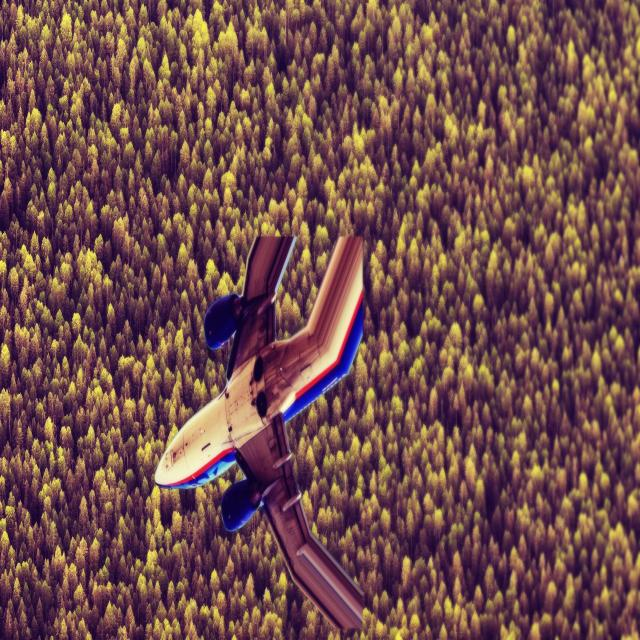airplane: (154, 233, 366, 636)
